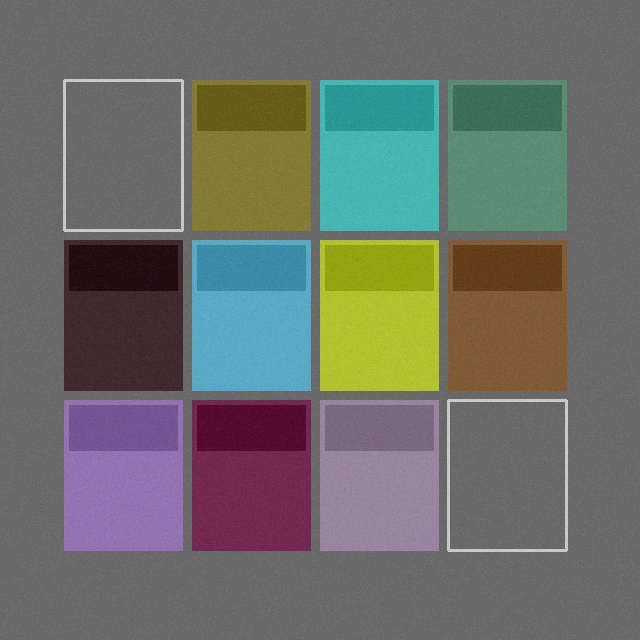space-empty: (64, 80, 182, 230), (448, 400, 566, 550)
space-occupied: (192, 80, 310, 230), (320, 80, 438, 230), (448, 80, 566, 230), (64, 240, 182, 390), (192, 240, 310, 390), (320, 240, 438, 390), (448, 240, 566, 390), (64, 400, 182, 550), (192, 400, 310, 550), (320, 400, 438, 550)
